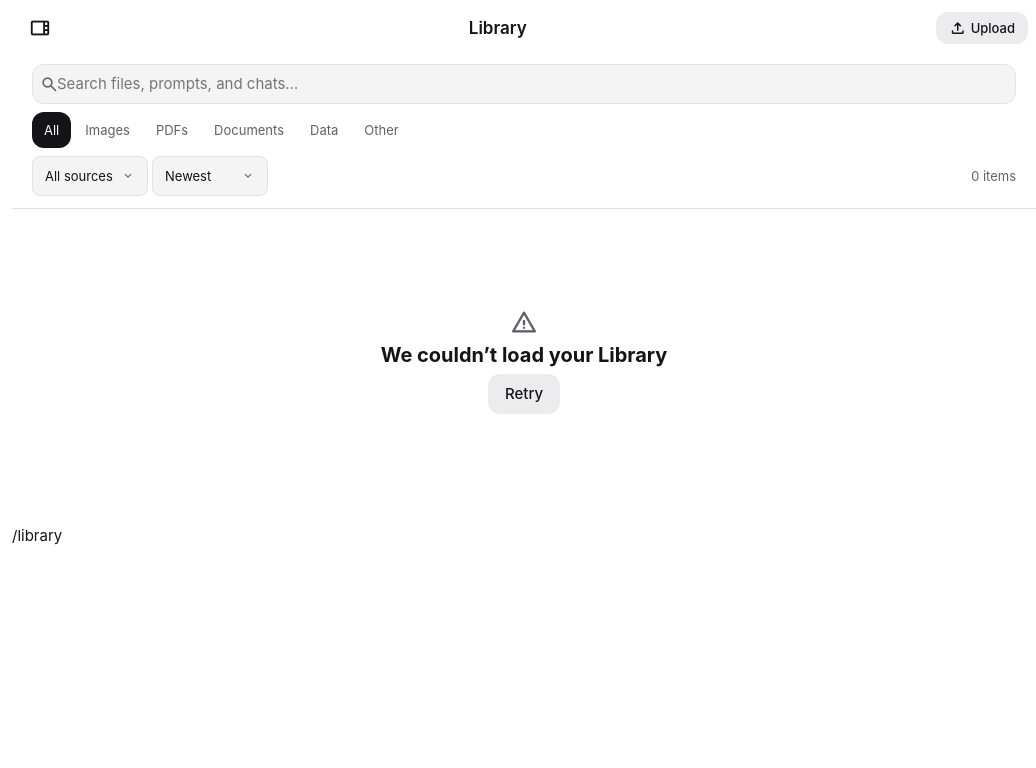
Test: LibraryView › retries a failed initial request
Expected: the heading "We couldn’t load your Library" is shown, [381,344,667,366]
Click the button "Retry": (524, 394) [488,374,560,414]
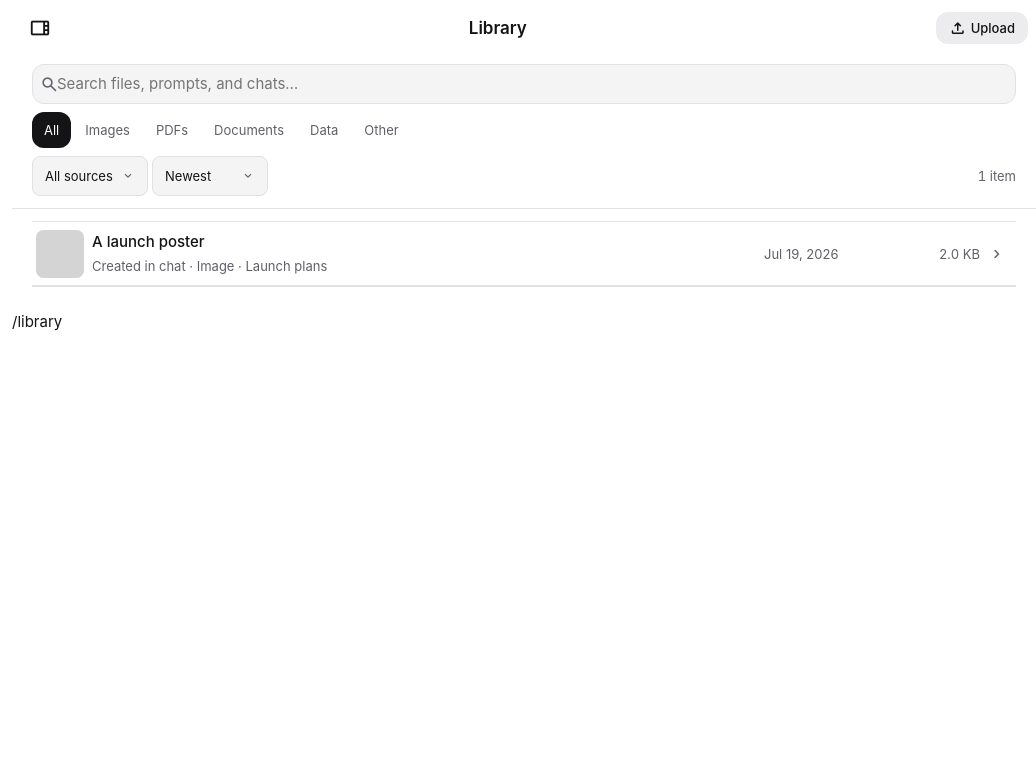
Expected: the text "A launch poster" is shown, [92,232,205,250]
